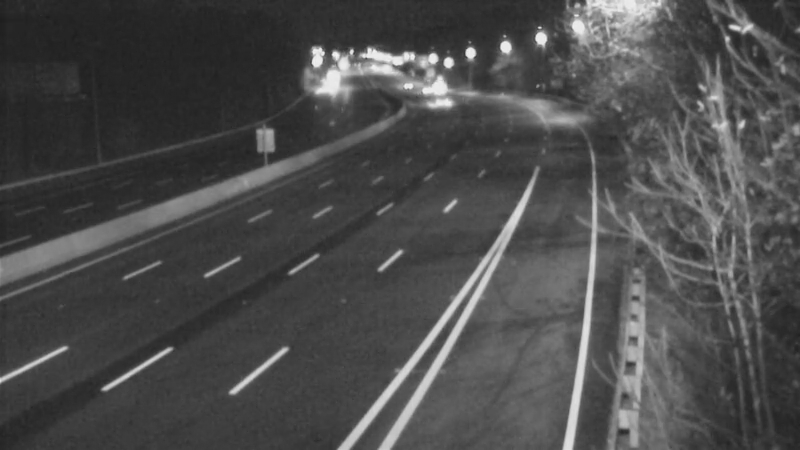vehicle: (412, 60, 462, 110), (381, 59, 431, 109), (399, 65, 449, 115), (418, 77, 468, 127)
